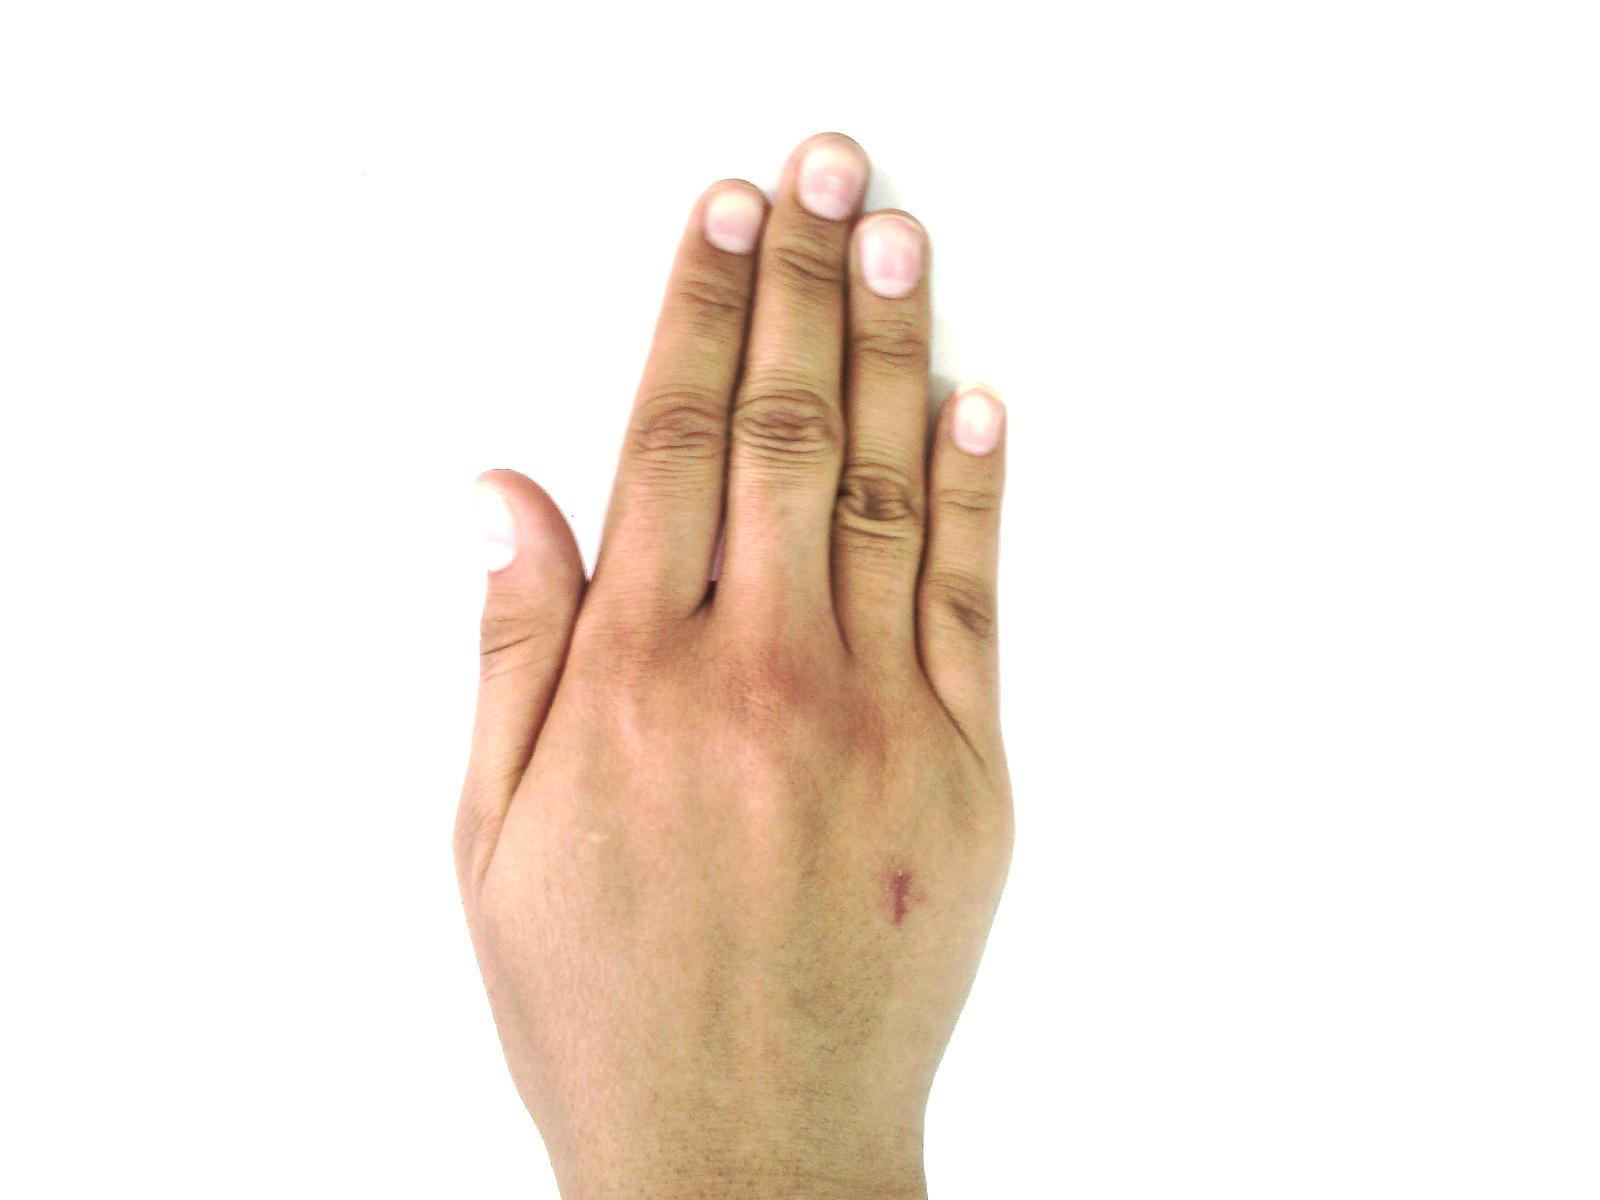hand: (433, 129, 1023, 1158)
